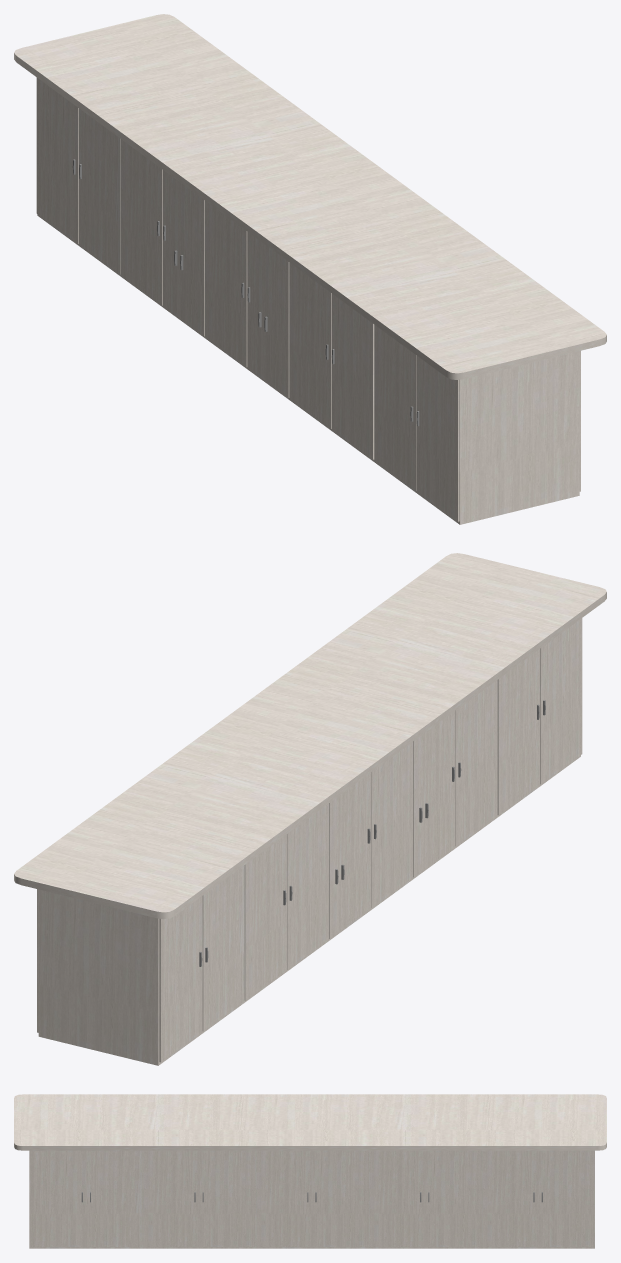
File: CK-guizi0004-CJBZ.FBX
3 renders of one model, top to bottom at view 1: azimuth 30°, elevation 25°; view 2: azimuth 150°, elevation 25°; view 3: azimuth 270°, elevation 25°, orthographic. The views are drawn at different scales.
Visible parts, largest first — view 1: CK-guizi0004-CJBZ; view 2: CK-guizi0004-CJBZ; view 3: CK-guizi0004-CJBZ.
Boxes of the visible parts, left/top/right/bottom form: CK-guizi0004-CJBZ: left=14, top=14, right=606, bottom=524; CK-guizi0004-CJBZ: left=14, top=553, right=606, bottom=1065; CK-guizi0004-CJBZ: left=14, top=1094, right=606, bottom=1248.
Bounding box in the file's own units: 0.9288 × 0.8971 × 4.43.
2 materials, 1 textured.
